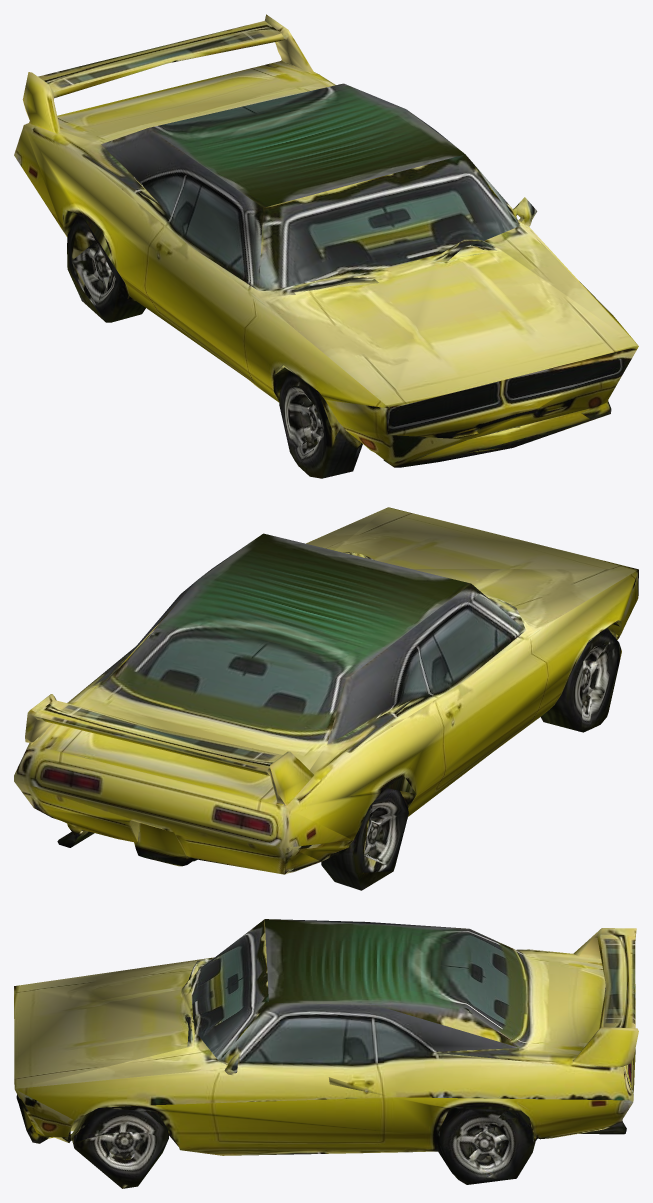
Rendered from superbird_70.glb.
3 renders of one model, top to bottom at view 1: azimuth 30°, elevation 25°; view 2: azimuth 150°, elevation 25°; view 3: azimuth 270°, elevation 25°, orthographic. The views are drawn at different scales.
Parts seen in each view (by area): view 1: textured; view 2: textured; view 3: textured.
Boxes of the visible parts, box(x1,y1,x2,y2) form: textured: box(14, 14, 638, 478); textured: box(14, 507, 638, 890); textured: box(14, 919, 638, 1188).
Size of the model in its own units: 0.9568 by 0.5929 by 1.97.
1 material, 1 textured.
